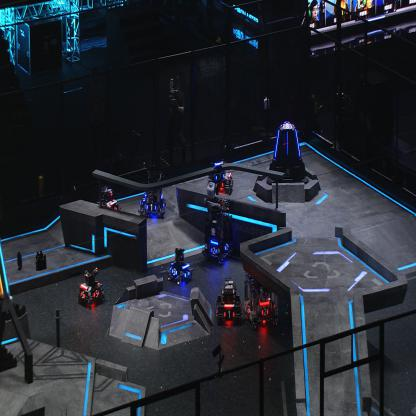car: (241, 263, 279, 328), (200, 196, 234, 266), (137, 167, 167, 219), (214, 276, 242, 325), (77, 266, 106, 308), (165, 244, 193, 286), (207, 158, 233, 194), (97, 184, 120, 217)
